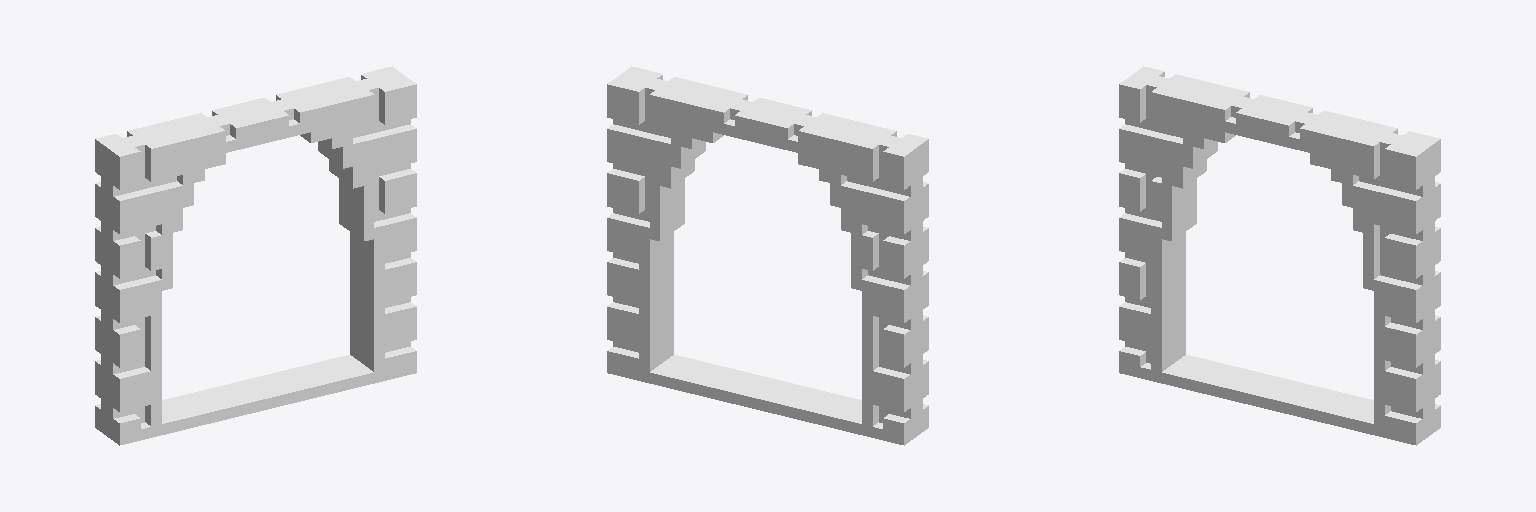
The model's file is Stenka1-8.obj.
The picture shows the model from 3 angles: view 1: azimuth 30°, elevation 25°; view 2: azimuth 150°, elevation 25°; view 3: azimuth 330°, elevation 25°; orthographic projection.
Parts seen in each view (by area): view 1: object 1; view 2: object 1; view 3: object 1.
Boxes of the visible parts, <box> form: object 1: <box>95,66,416,445</box>; object 1: <box>607,66,928,445</box>; object 1: <box>1119,66,1440,445</box>.
Bounding box in the file's own units: 2.8 × 2.6 × 0.4.